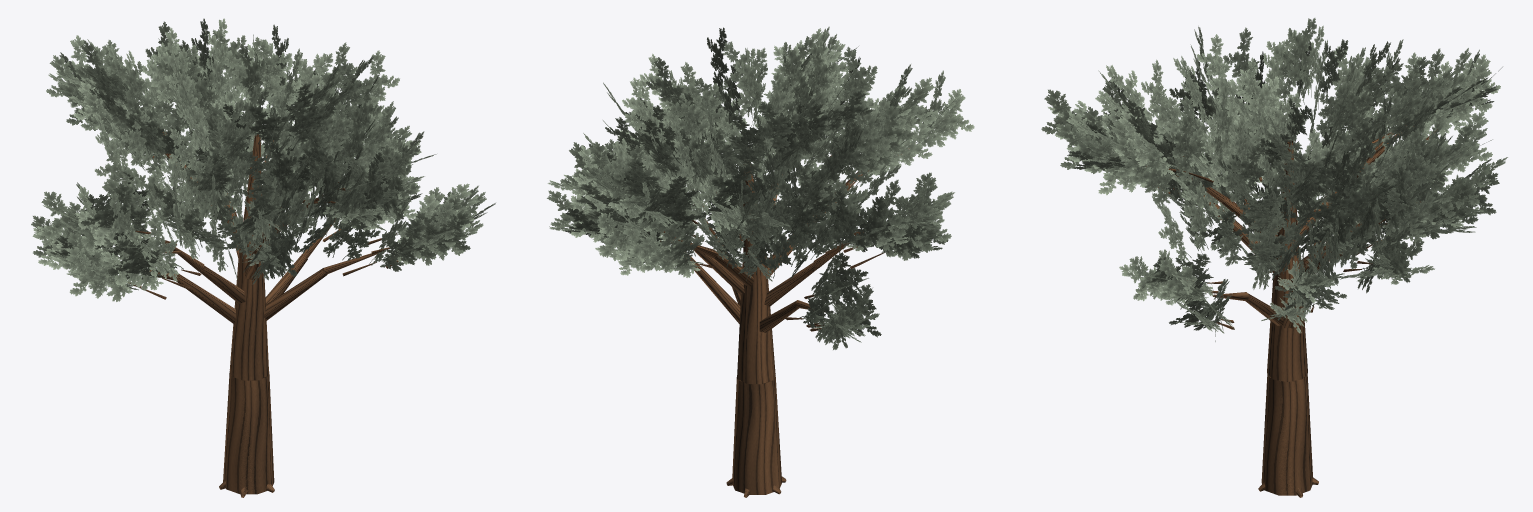
File: oak_a.glb
3 renders of one model, left to right at view 1: azimuth 30°, elevation 25°; view 2: azimuth 150°, elevation 25°; view 3: azimuth 270°, elevation 25°, orthographic. The views are drawn at different scales.
Visible parts, largest first — view 1: oak_a; view 2: oak_a; view 3: oak_a.
Part boxes in pixels (box(x1,y1,x2,y2)): oak_a: box(31, 18, 495, 497); oak_a: box(547, 26, 974, 497); oak_a: box(1041, 18, 1507, 497).
Size of the model in its own units: 1.86 by 1.89 by 1.93.
1 material, 1 textured.
